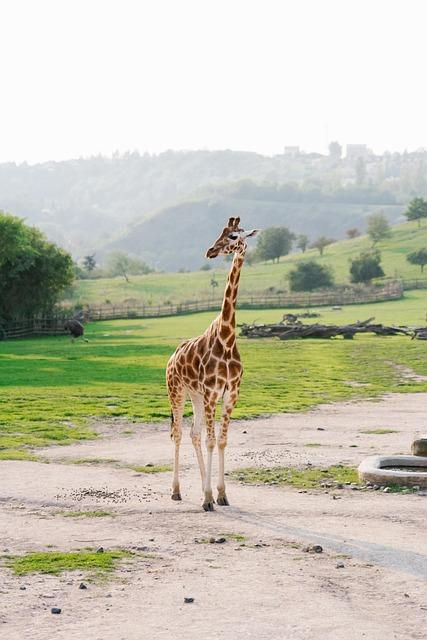Non_Gorille: (75, 164, 407, 574)
